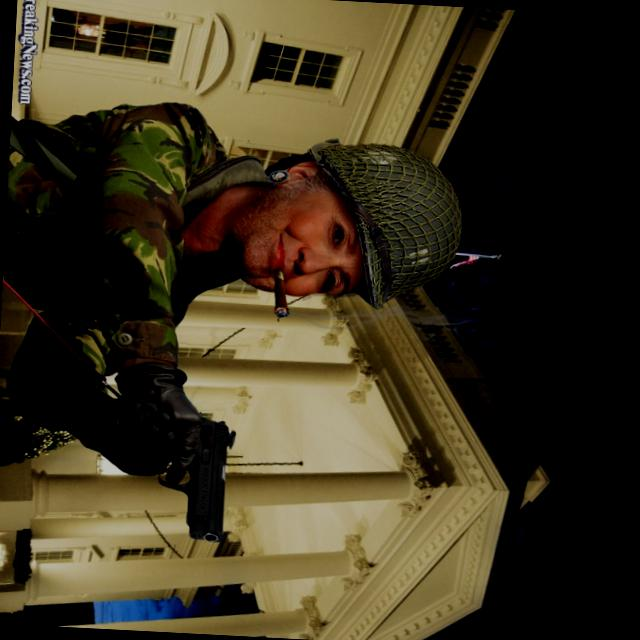handgun: (110, 410, 233, 544)
